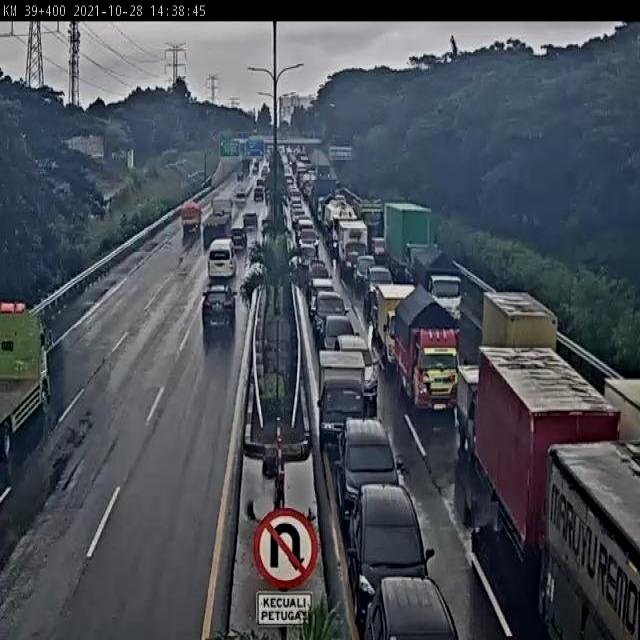Car: (345, 483, 434, 634), (360, 573, 464, 640), (336, 420, 400, 526), (335, 334, 381, 406), (312, 290, 350, 338), (202, 284, 238, 330), (318, 313, 360, 350), (364, 264, 394, 310), (309, 278, 336, 319), (306, 262, 330, 296), (353, 253, 376, 288), (297, 244, 318, 270), (230, 225, 248, 255), (298, 227, 320, 251), (296, 218, 314, 239), (243, 210, 258, 232), (290, 209, 306, 226), (234, 188, 248, 207), (253, 186, 264, 202), (237, 169, 244, 181), (261, 168, 269, 178), (256, 178, 263, 187)
Truck: (473, 343, 623, 574), (541, 442, 639, 638), (392, 285, 464, 414), (0, 295, 55, 461), (478, 287, 562, 352), (317, 349, 369, 446), (411, 245, 467, 326), (384, 202, 435, 280), (374, 280, 419, 367), (598, 375, 640, 450), (454, 364, 488, 450), (322, 194, 358, 254), (336, 218, 369, 282), (352, 194, 385, 248), (201, 196, 235, 237), (312, 176, 338, 215), (180, 199, 202, 236)
Van: (207, 238, 237, 280)
